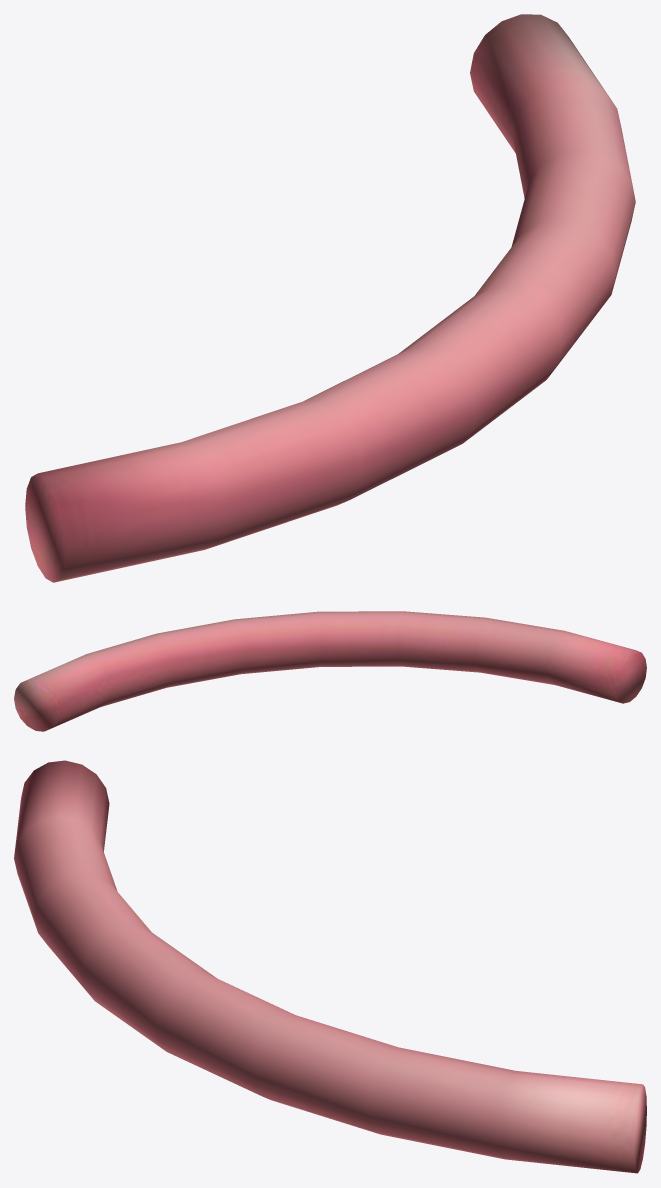
Rendered from pool_noodle.glb.
3 renders of one model, top to bottom at view 1: azimuth 30°, elevation 25°; view 2: azimuth 150°, elevation 25°; view 3: azimuth 270°, elevation 25°, orthographic. The views are drawn at different scales.
Parts seen in each view (by area): view 1: Pool_Item_2; view 2: Pool_Item_2; view 3: Pool_Item_2.
Boxes of the visible parts, x1=… form: Pool_Item_2: x1=25, y1=14, x2=635, y2=582; Pool_Item_2: x1=14, y1=611, x2=646, y2=731; Pool_Item_2: x1=14, y1=760, x2=646, y2=1173.
Size of the model in its own units: 1.92 by 0.2073 by 1.47.
Materials: 1 (1 with a texture image).
